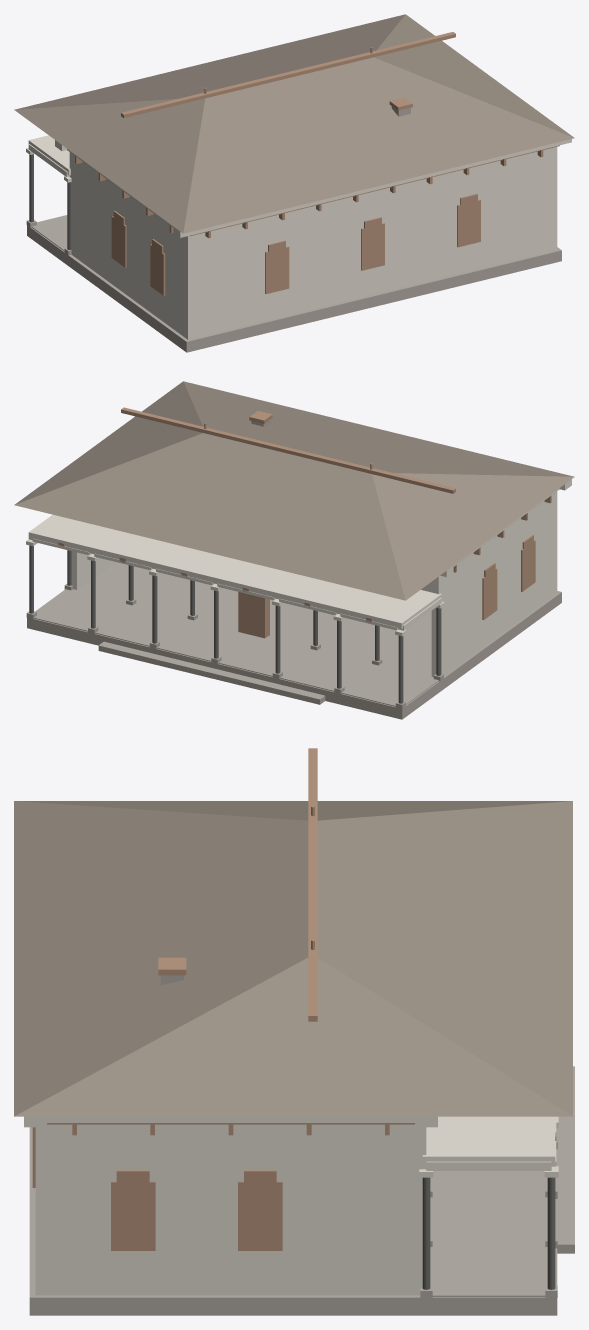
Rendered from cp_mineral_springs.glb.
3 views of the same model, one above another, from view 1: azimuth 30°, elevation 25°; view 2: azimuth 150°, elevation 25°; view 3: azimuth 270°, elevation 25° (orthographic). The views are drawn at different scales.
Parts seen in each view (by area): view 1: MineralSpringsPavilion; view 2: MineralSpringsPavilion; view 3: MineralSpringsPavilion.
Part boxes in pixels (x1,y1,x2,y2): MineralSpringsPavilion: [14, 14, 574, 352]; MineralSpringsPavilion: [14, 381, 574, 719]; MineralSpringsPavilion: [14, 748, 574, 1315].
Size of the model in its own units: 19.1 by 8.21 by 14.35.
